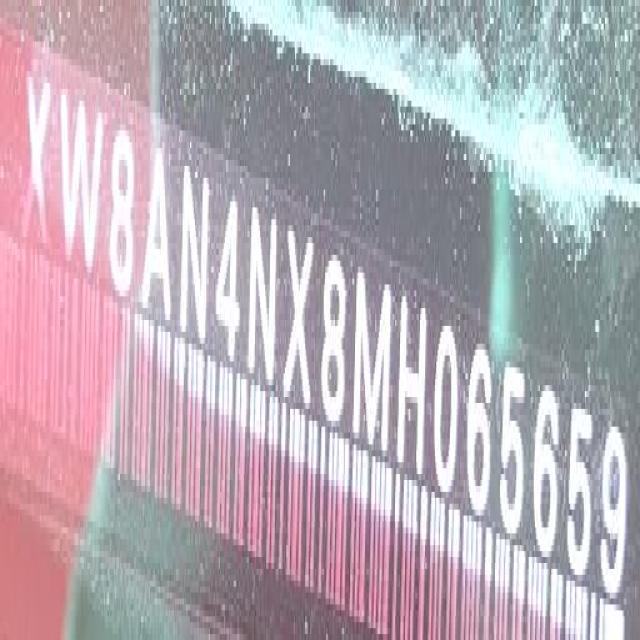0: (433, 319, 459, 497)
4: (213, 182, 243, 366)
5: (501, 354, 528, 538), (566, 401, 592, 589)
6: (532, 374, 562, 562), (465, 337, 491, 520)
8: (319, 249, 348, 434), (111, 120, 137, 303)
9: (601, 422, 630, 605)
A: (143, 136, 176, 331)
H: (397, 288, 428, 478)
M: (356, 269, 394, 457)
N: (247, 202, 280, 392), (182, 167, 214, 347)
W: (57, 83, 103, 281)
X: (284, 216, 318, 416), (24, 66, 50, 258)
